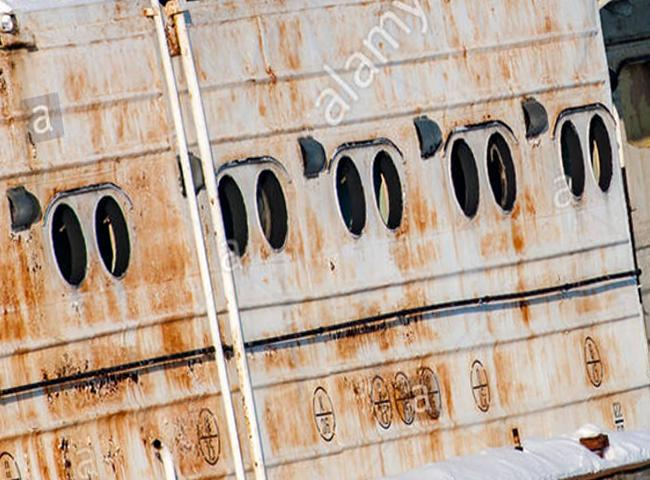rust: (1, 284, 219, 480), (305, 240, 494, 457), (545, 274, 634, 456), (466, 1, 585, 91), (249, 7, 317, 148), (134, 167, 196, 282), (507, 199, 536, 340), (2, 35, 38, 144), (494, 352, 524, 459), (1, 233, 47, 284)
